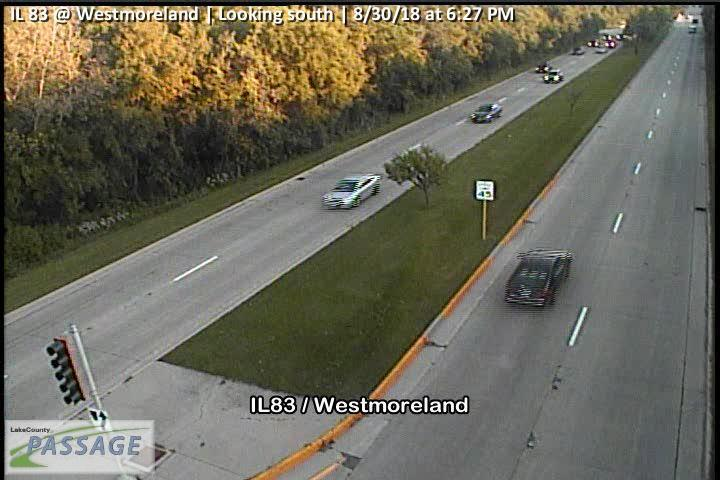Sedan: (503, 246, 573, 309), (320, 173, 381, 210), (470, 102, 503, 123), (543, 68, 563, 84), (535, 60, 553, 73)
